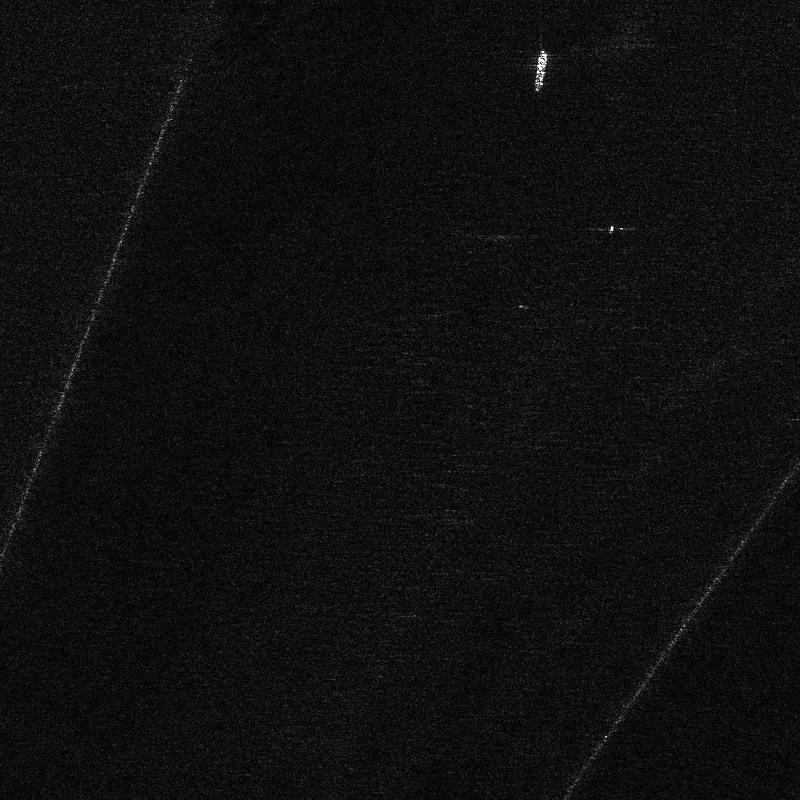ship: (534, 50, 547, 92)
